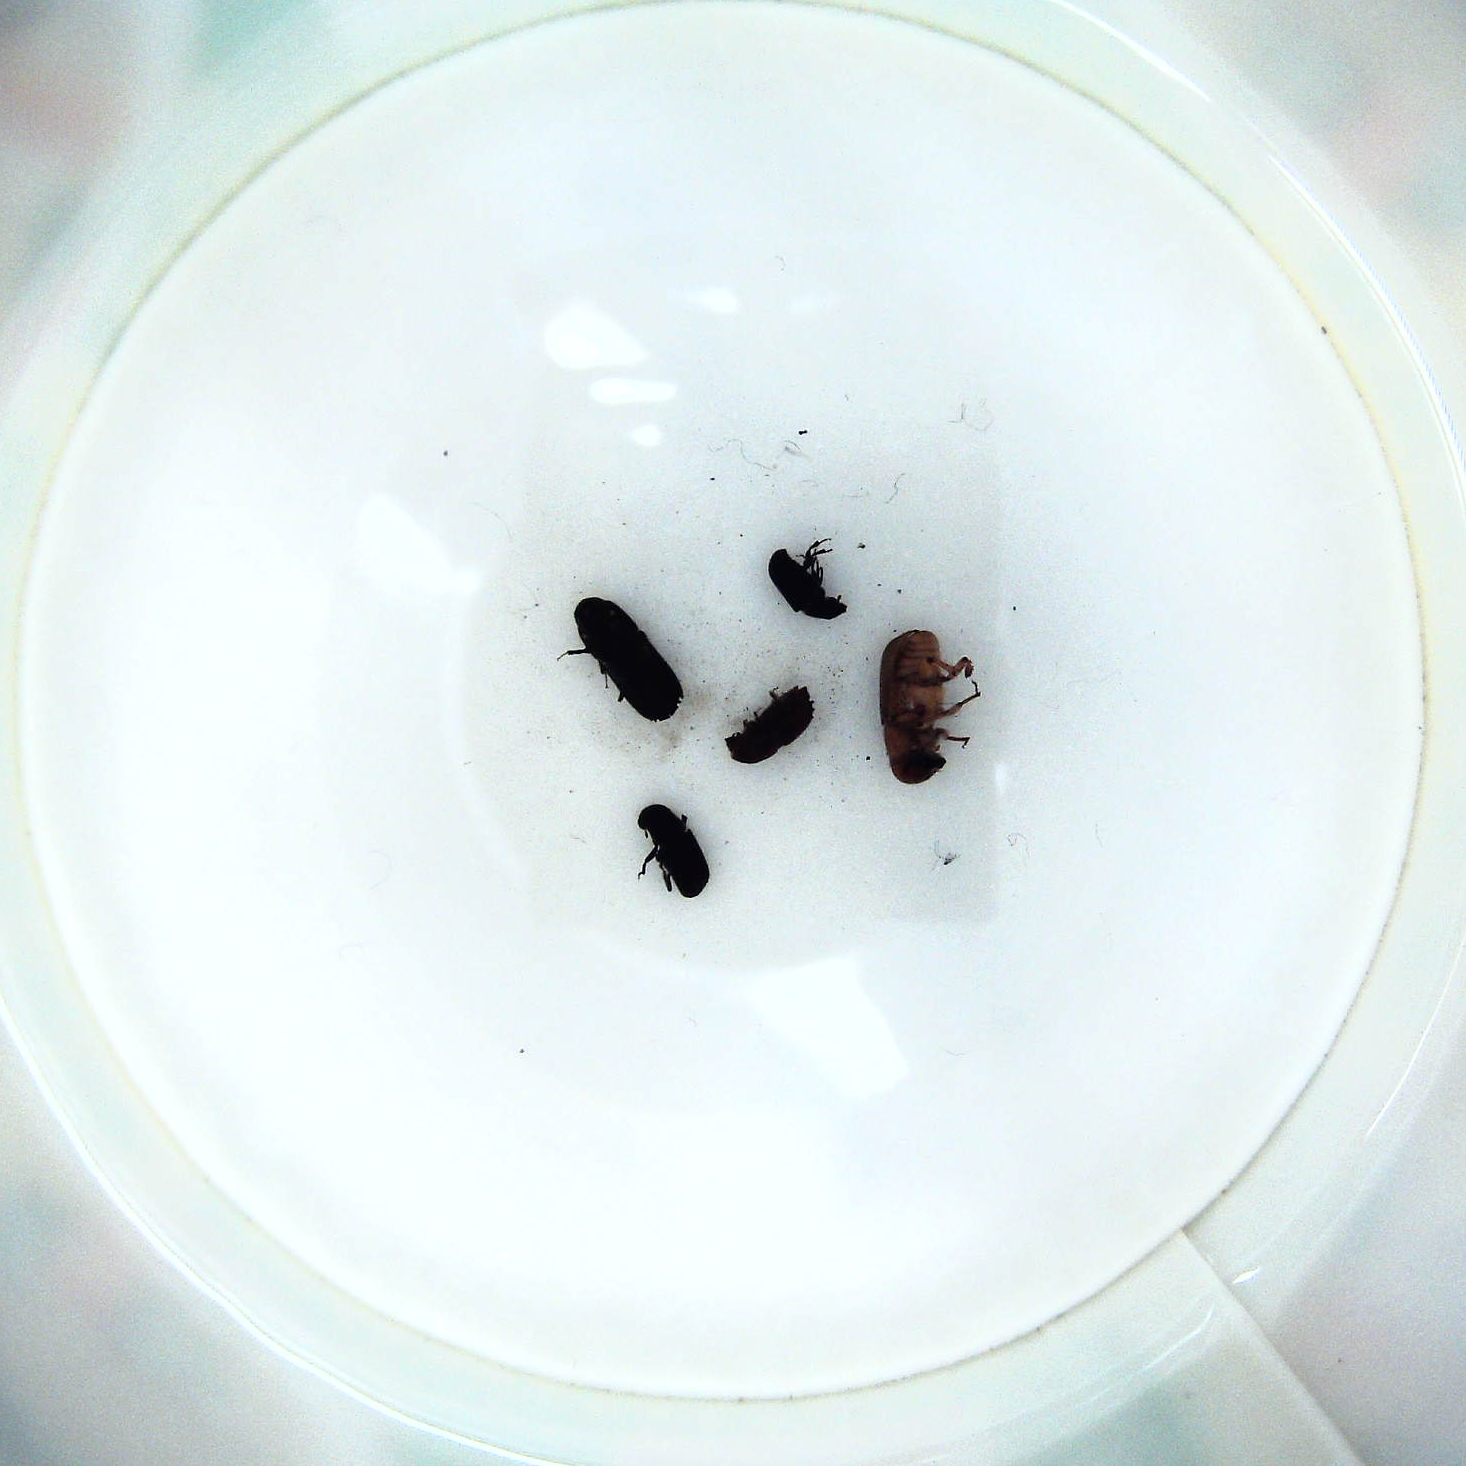Boerner: (569, 589, 685, 726)
Leconte: (873, 626, 989, 792)
armandi: (628, 799, 716, 903)
coleoptera: (764, 532, 844, 622)
linnaeus: (721, 685, 823, 771)
